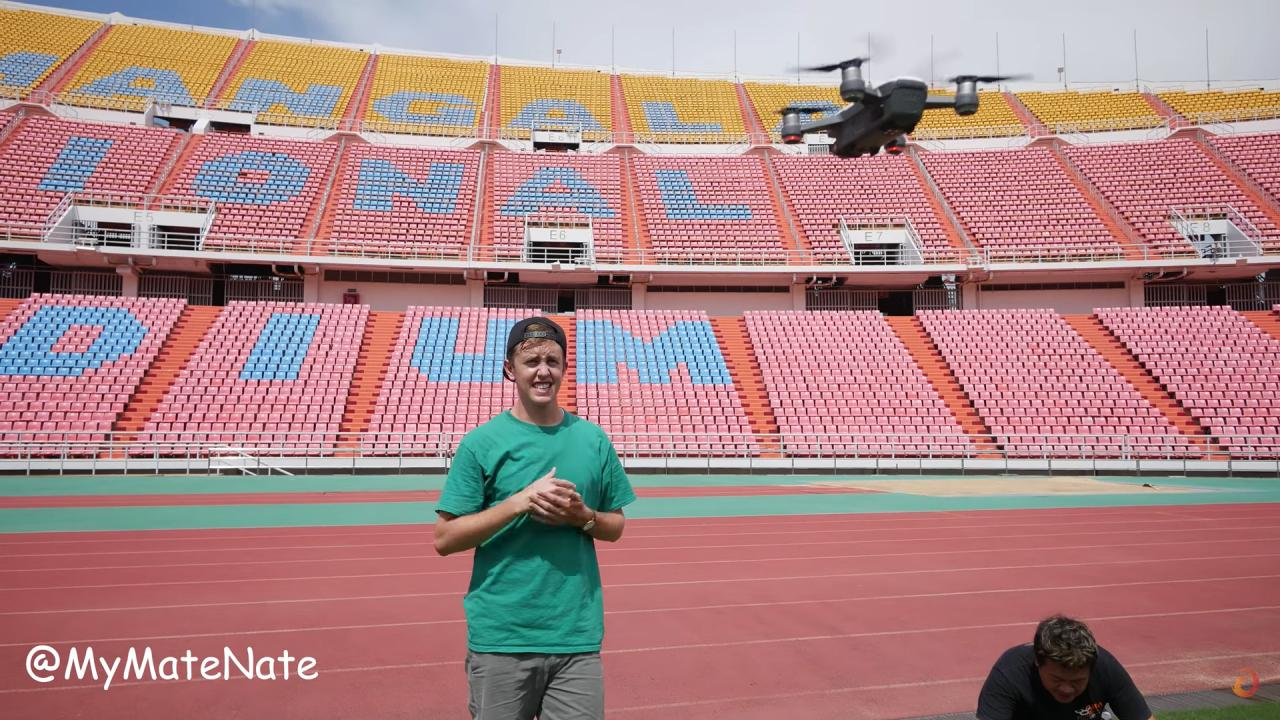Drone: (762, 44, 1035, 168)
